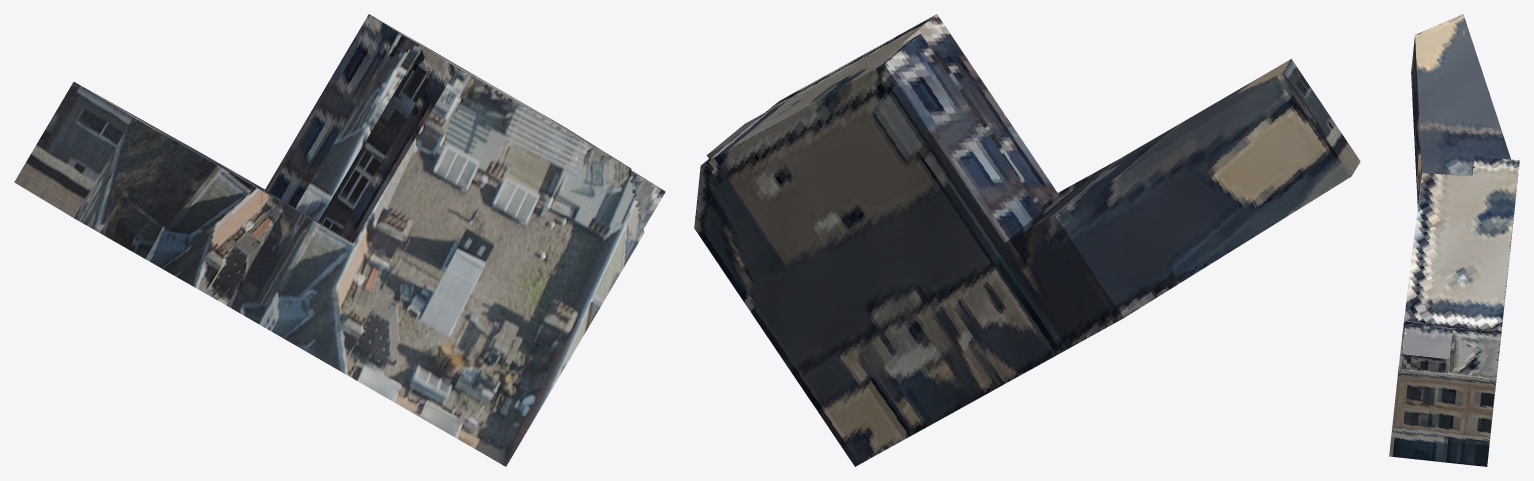
The picture shows the model from 3 angles, left to right: view 1: azimuth 30°, elevation 25°; view 2: azimuth 150°, elevation 25°; view 3: azimuth 270°, elevation 25°; orthographic projection. The views are drawn at different scales.
Parts seen in each view (by area): view 1: BAG_0599100000671726 (×5); view 2: BAG_0599100000671726 (×4); view 3: BAG_0599100000671726 (×6).
Part boxes in pixels (x1,y1,x2,y2): BAG_0599100000671726 (×5): (14,14,665,466); BAG_0599100000671726 (×4): (694,14,1360,466); BAG_0599100000671726 (×6): (1389,14,1519,466).
Bounding box in the file's own units: 29.36 × 20.64 × 7.64.
7 materials, 6 textured.
